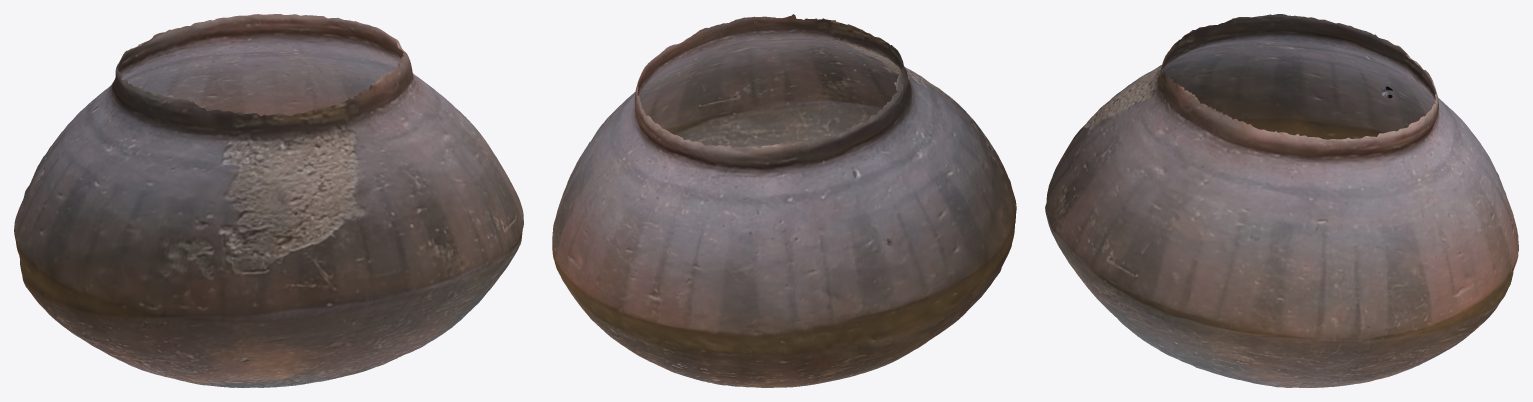
Rendered from ollaBahia.glb.
The picture shows the model from 3 angles, left to right: view 1: azimuth 30°, elevation 25°; view 2: azimuth 150°, elevation 25°; view 3: azimuth 270°, elevation 25°; orthographic projection. The views are drawn at different scales.
Parts seen in each view (by area): view 1: Object_3; view 2: Object_3; view 3: Object_3.
Part boxes in pixels (x1=…): Object_3: x1=14, y1=14, x2=523, y2=387; Object_3: x1=552, y1=14, x2=1016, y2=387; Object_3: x1=1045, y1=14, x2=1518, y2=387.
Size of the model in its own units: 0.4599 by 0.3091 by 0.4593.
Materials: 1 (1 with a texture image).
